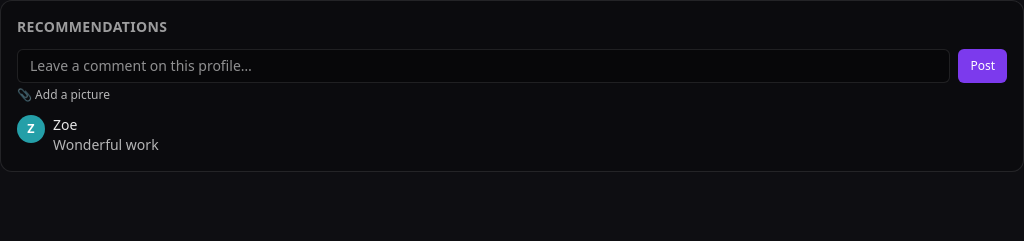
Scenario: ProfileComments (testimonials) › posts a trimmed testimonial to the top of the list
Check: the text "Wonderful work" is shown, box top-left (53, 135), bottom-right (159, 154)
Type "  Brand new " into the field with placeholder "Leave a comment on this profile…" at (484, 66), box top-left (17, 49), bottom-right (950, 83)
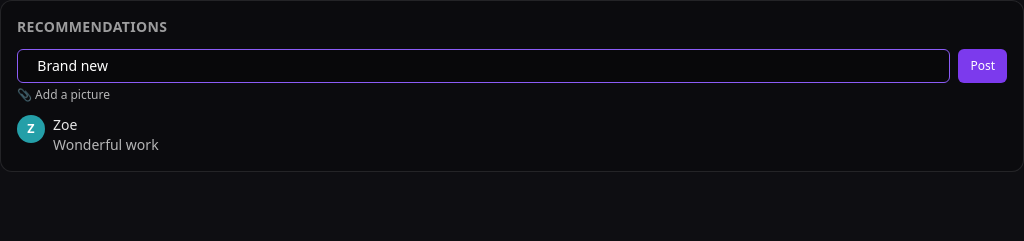
Click the button "Post" at (983, 66), box top-left (958, 49), bottom-right (1007, 83)
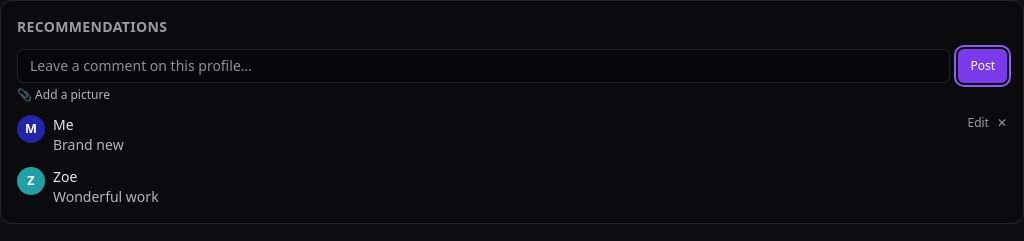
Check: the text "Brand new" is shown, box top-left (53, 135), bottom-right (124, 154)
